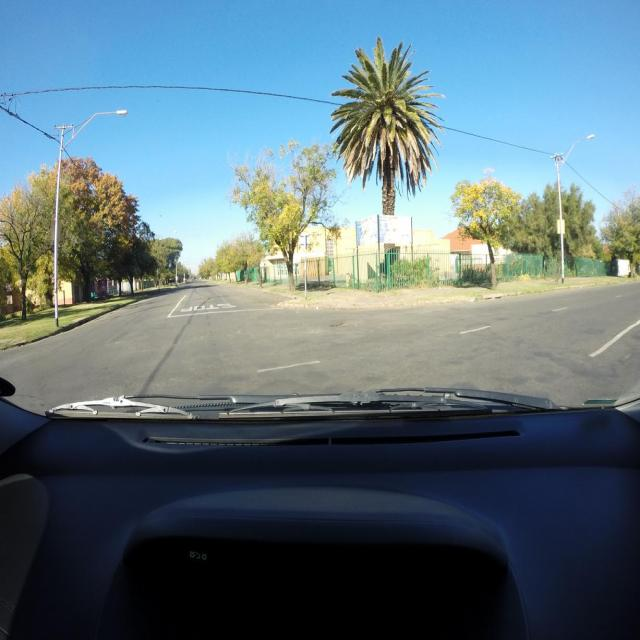Pothole: (330, 323, 354, 329)
